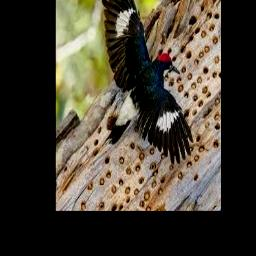Woodpecker: (102, 0, 193, 164)
